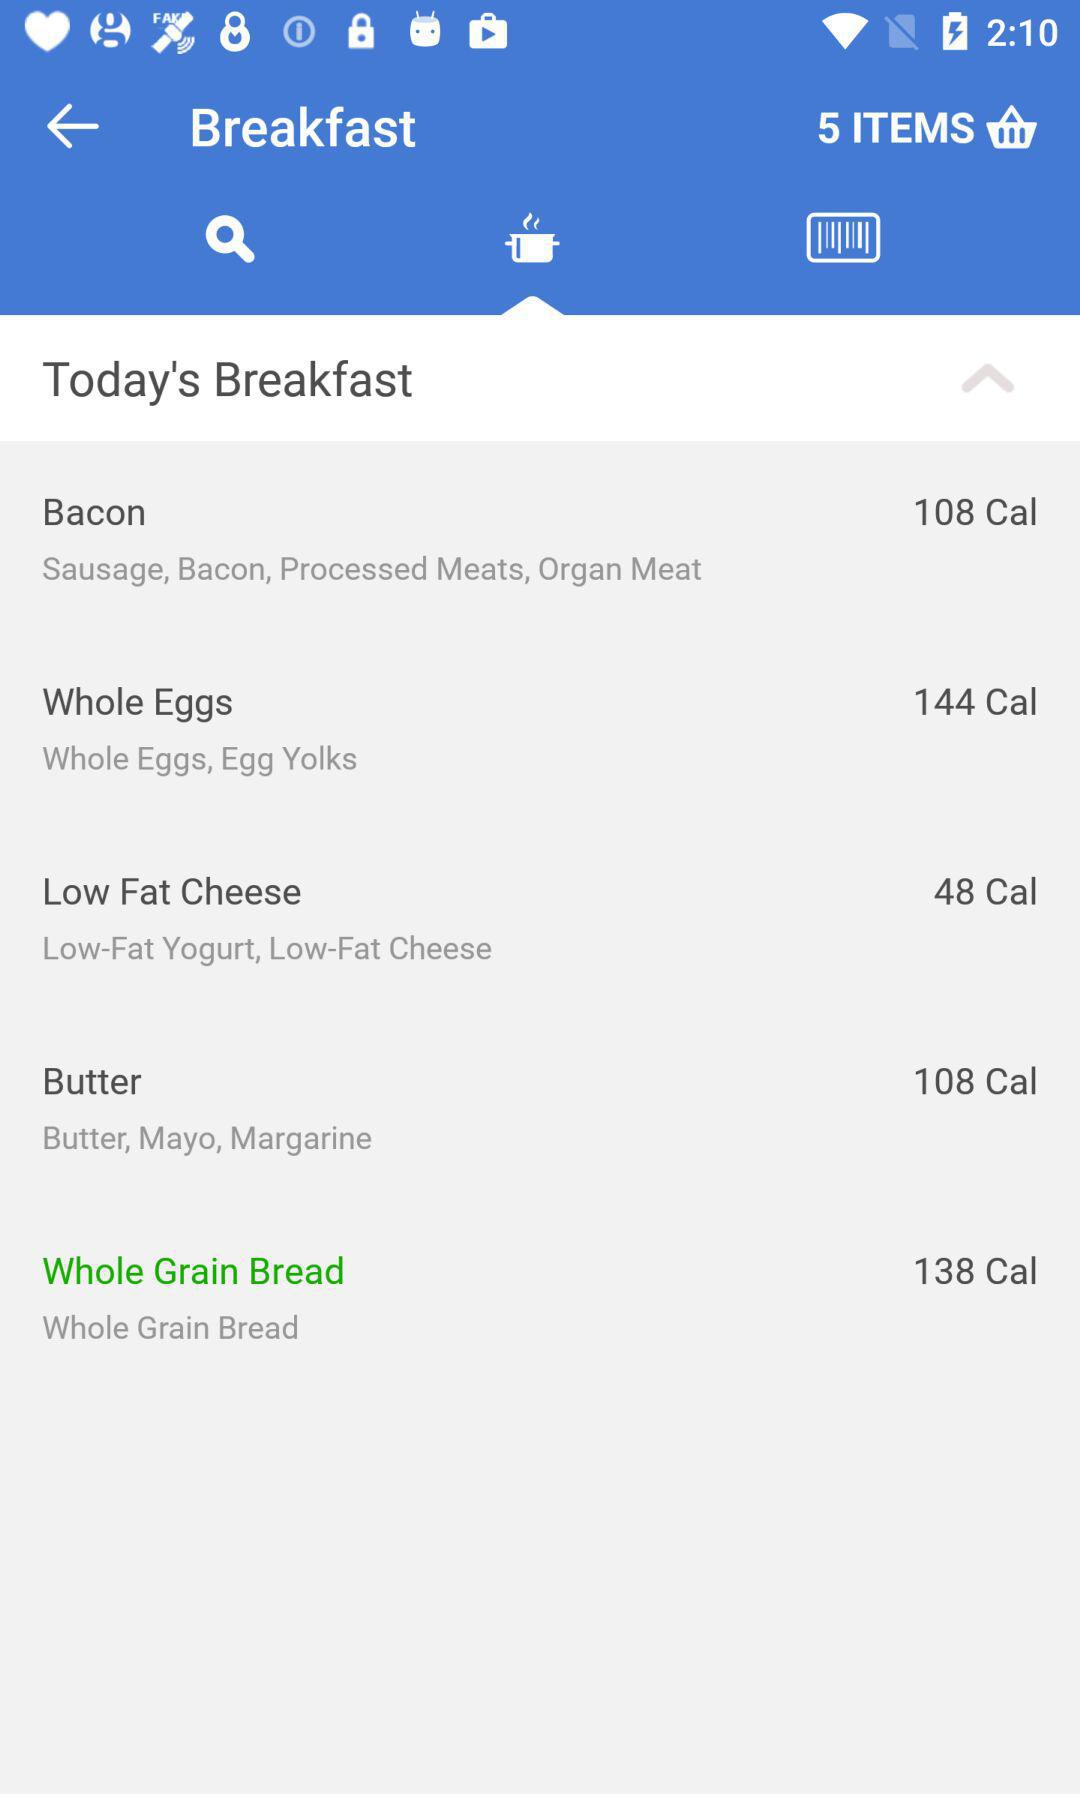Icon: (205, 214, 258, 265), (47, 103, 102, 151), (985, 105, 1038, 151), (961, 363, 1017, 395)
Image: (805, 211, 881, 265), (503, 211, 562, 265)
Text: (44, 556, 703, 589), (44, 360, 413, 407), (44, 935, 493, 967), (44, 1125, 373, 1157), (44, 745, 357, 778), (193, 105, 416, 150), (44, 1256, 345, 1287), (45, 876, 302, 906), (44, 686, 234, 724), (44, 1313, 299, 1340), (817, 109, 975, 145), (915, 686, 1036, 718), (915, 1256, 1036, 1287), (915, 497, 1036, 528), (916, 1065, 1036, 1096), (934, 876, 1036, 907), (45, 1067, 143, 1097), (45, 498, 146, 527)
UpperTaskBar: (1, 1, 1080, 58)
